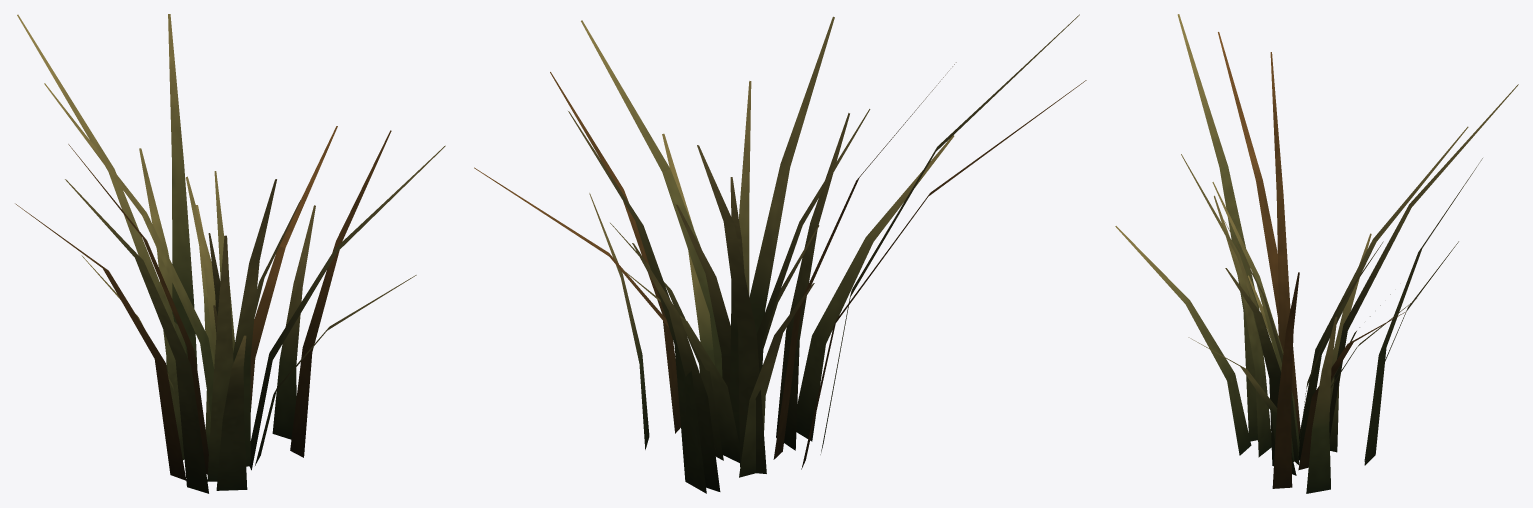
Rendered from tussock.glb.
3 views of the same model, side by side, from view 1: azimuth 30°, elevation 25°; view 2: azimuth 150°, elevation 25°; view 3: azimuth 270°, elevation 25° (orthographic). The views are drawn at different scales.
Visible parts, largest first — view 1: tussock; view 2: tussock; view 3: tussock.
Part boxes in pixels (box(x1,y1,x2,y2)): tussock: box(15, 14, 445, 493); tussock: box(474, 14, 1086, 493); tussock: box(1115, 14, 1518, 493).
Size of the model in its own units: 0.8932 by 0.7611 by 0.801.
Materials: 1 (1 with a texture image).
